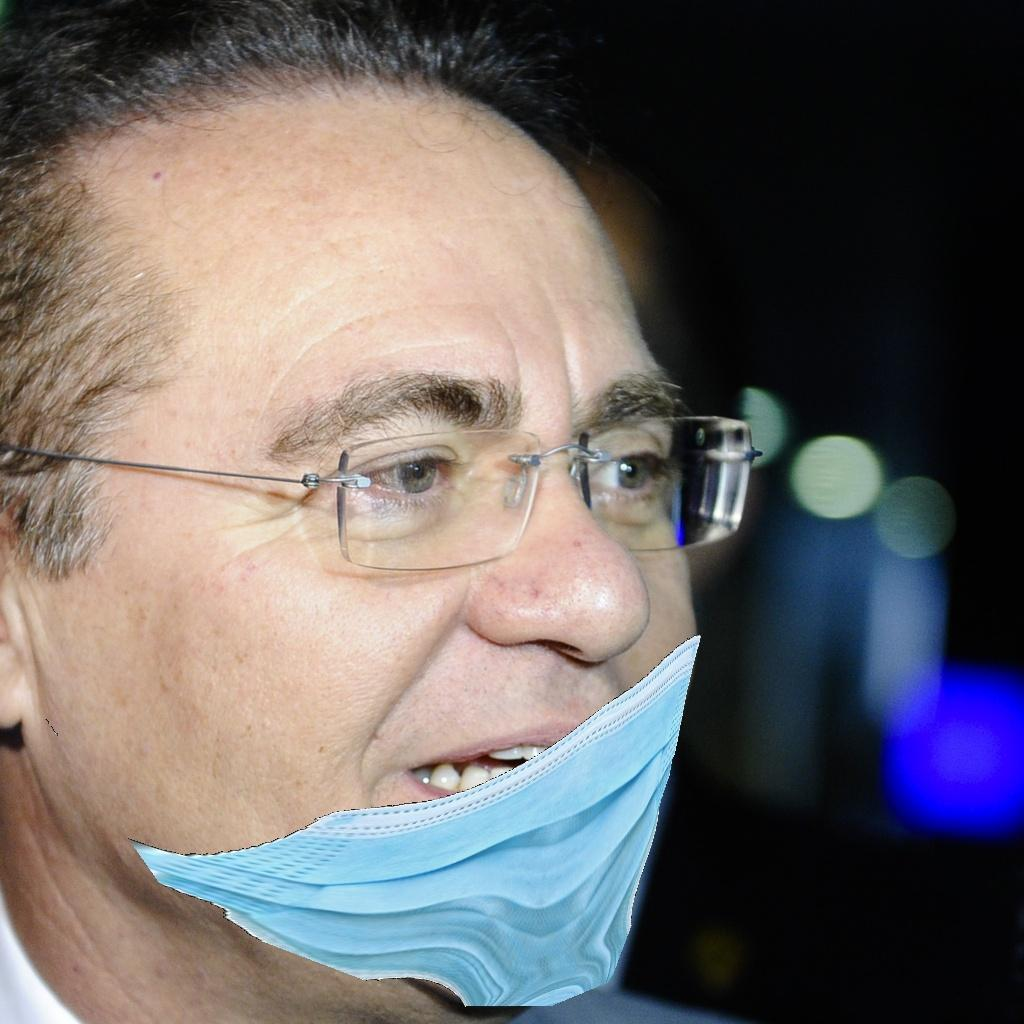Máscara Incorreta: (135, 292, 704, 985)
